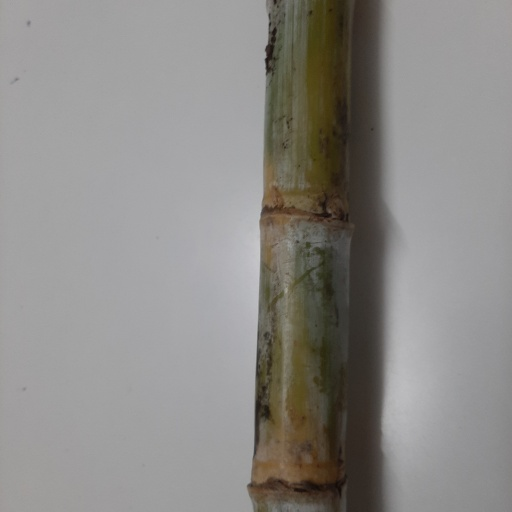Bud: (325, 189, 348, 219)
